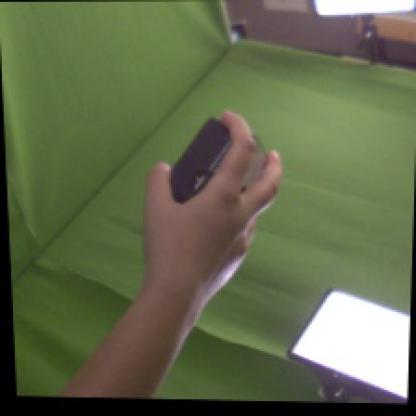Hand: (142, 108, 283, 304)
